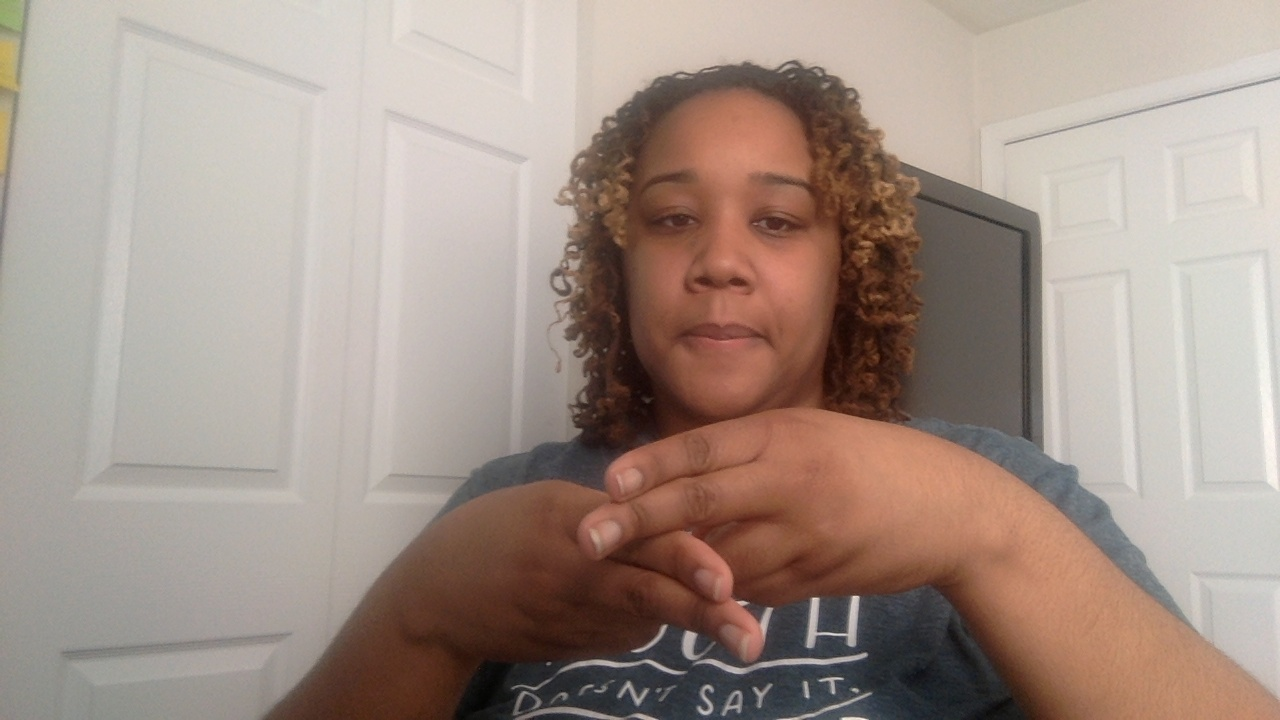name: (397, 404, 1047, 683)
